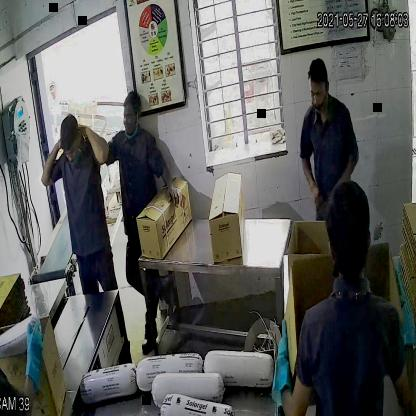no_goggles: (306, 78, 331, 104), (60, 140, 83, 162)
